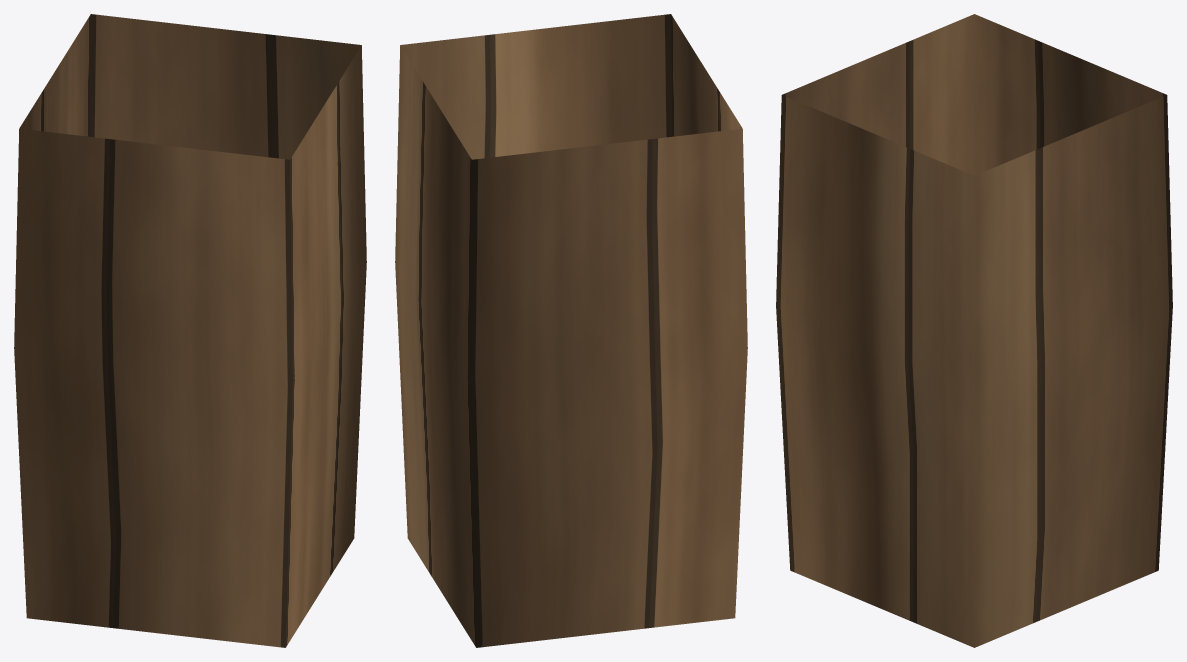
Rendered from Mug_LOD2.gltf.
3 renders of one model, left to right at view 1: azimuth 30°, elevation 25°; view 2: azimuth 150°, elevation 25°; view 3: azimuth 270°, elevation 25°, orthographic. The views are drawn at different scales.
Visible parts, largest first — view 1: Mug_LOD2; view 2: Mug_LOD2; view 3: Mug_LOD2.
Part boxes in pixels (box(x1,y1,x2,y2)): Mug_LOD2: box(14, 14, 366, 647); Mug_LOD2: box(395, 14, 747, 647); Mug_LOD2: box(776, 14, 1172, 647).
Bounding box in the file's own units: 0.1352 × 0.18 × 0.1361.
1 material, 1 textured.
